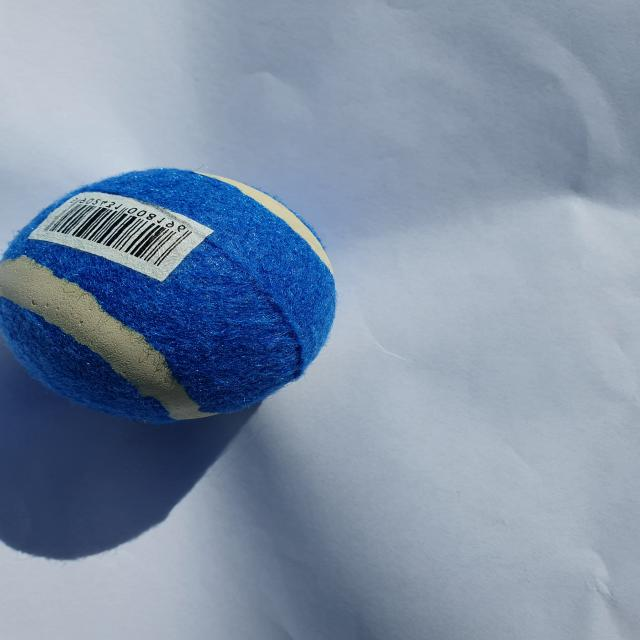blue: (0, 167, 335, 425)
